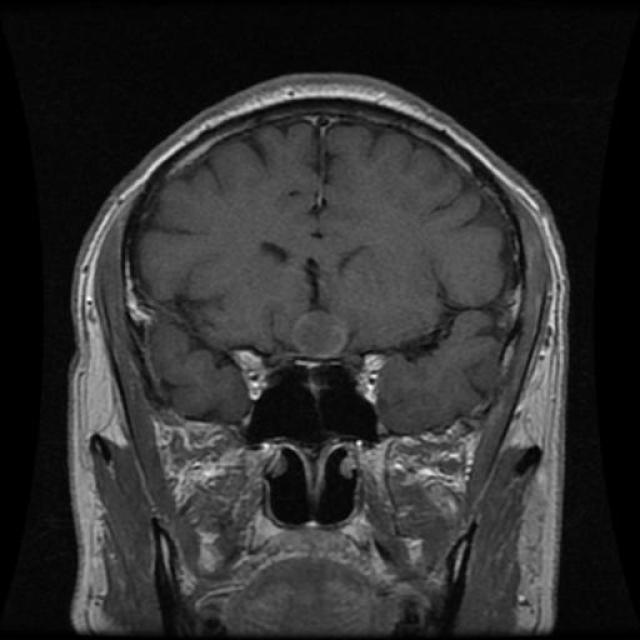pituitary: (254, 292, 380, 381)
